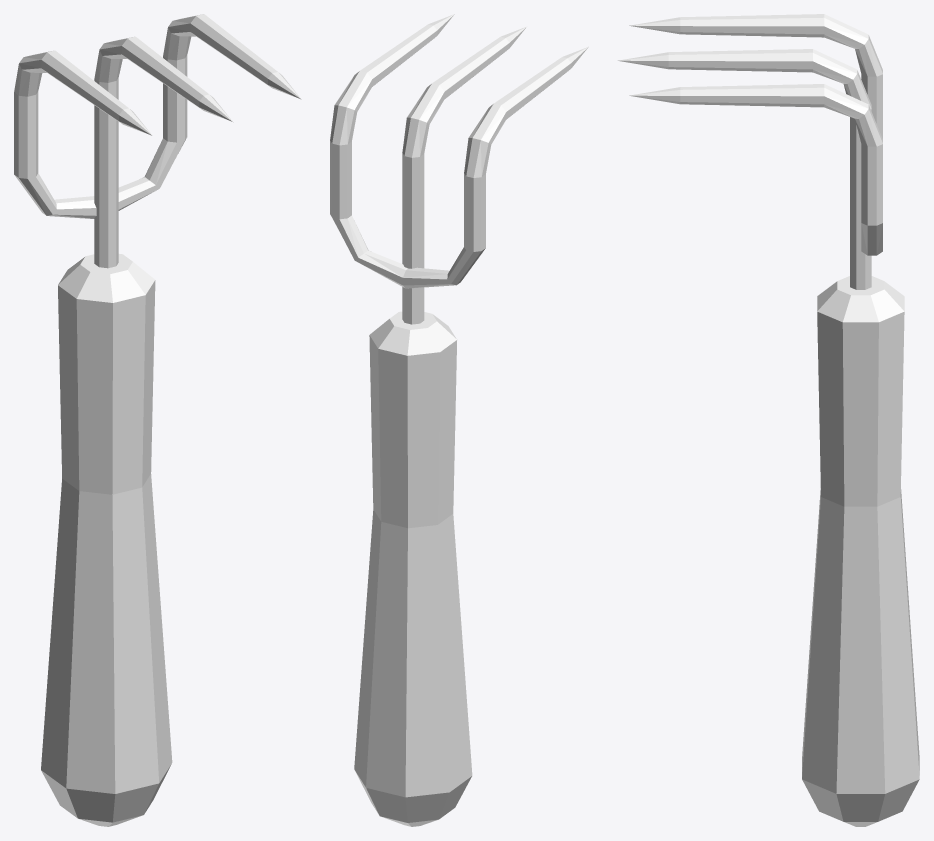
The model's file is Tool_Hand_Cultivator_01.glb.
3 views of the same model, side by side, from view 1: azimuth 30°, elevation 25°; view 2: azimuth 150°, elevation 25°; view 3: azimuth 270°, elevation 25° (orthographic). The views are drawn at different scales.
Parts seen in each view (by area): view 1: Tool_Hand Cultivator_01; view 2: Tool_Hand Cultivator_01; view 3: Tool_Hand Cultivator_01.
Boxes of the visible parts, left/top/right/bottom form: Tool_Hand Cultivator_01: left=14, top=14, right=301, bottom=826; Tool_Hand Cultivator_01: left=330, top=14, right=588, bottom=826; Tool_Hand Cultivator_01: left=618, top=14, right=919, bottom=826.
Bounding box in the file's own units: 0.0661 × 0.2958 × 0.1051.
1 material, 1 textured.
